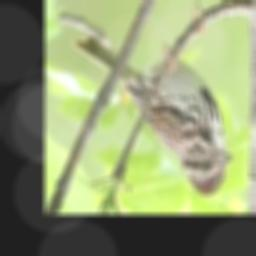Sparrow: (74, 3, 232, 195)
